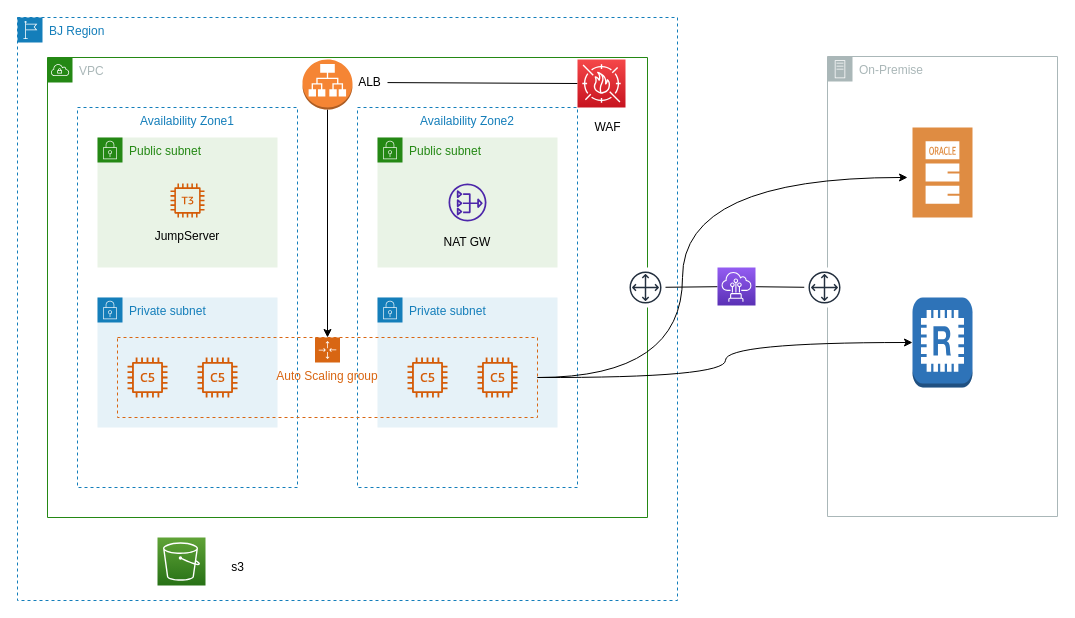
Image size: 1075x618. Some labels were removed from this diagram. The shapes that lost their labels are listed below. From the top down, each one's centre as x and y in pixels, then its label:
At [645,287]: "vgw".
At [824,287]: "cgw".
